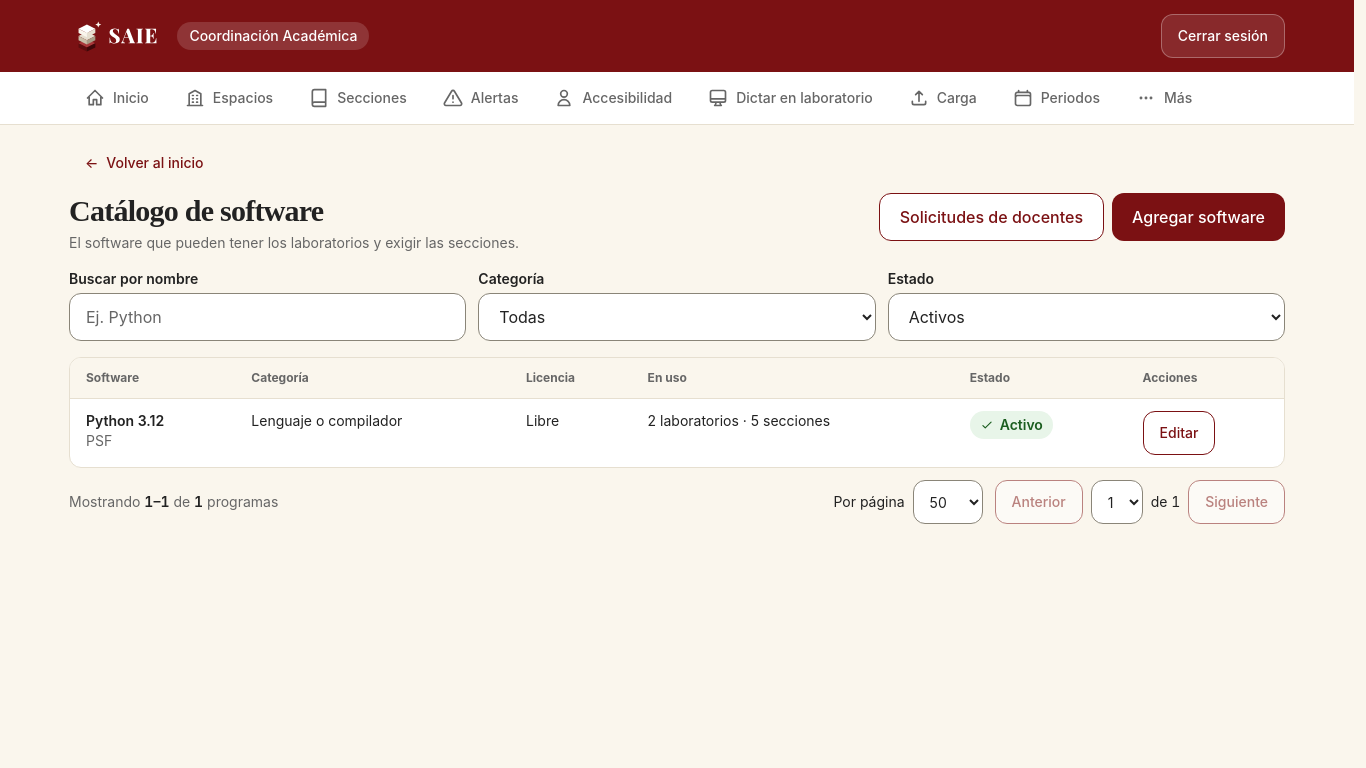
Test: Catálogo de software (Issue 4.30) › en edición la versión no se puede cambiar
The image size is (1366, 768).
Click the button named "Editar Python 3.12".
click(1179, 433)  # box top-left (1143, 411), bottom-right (1215, 455)
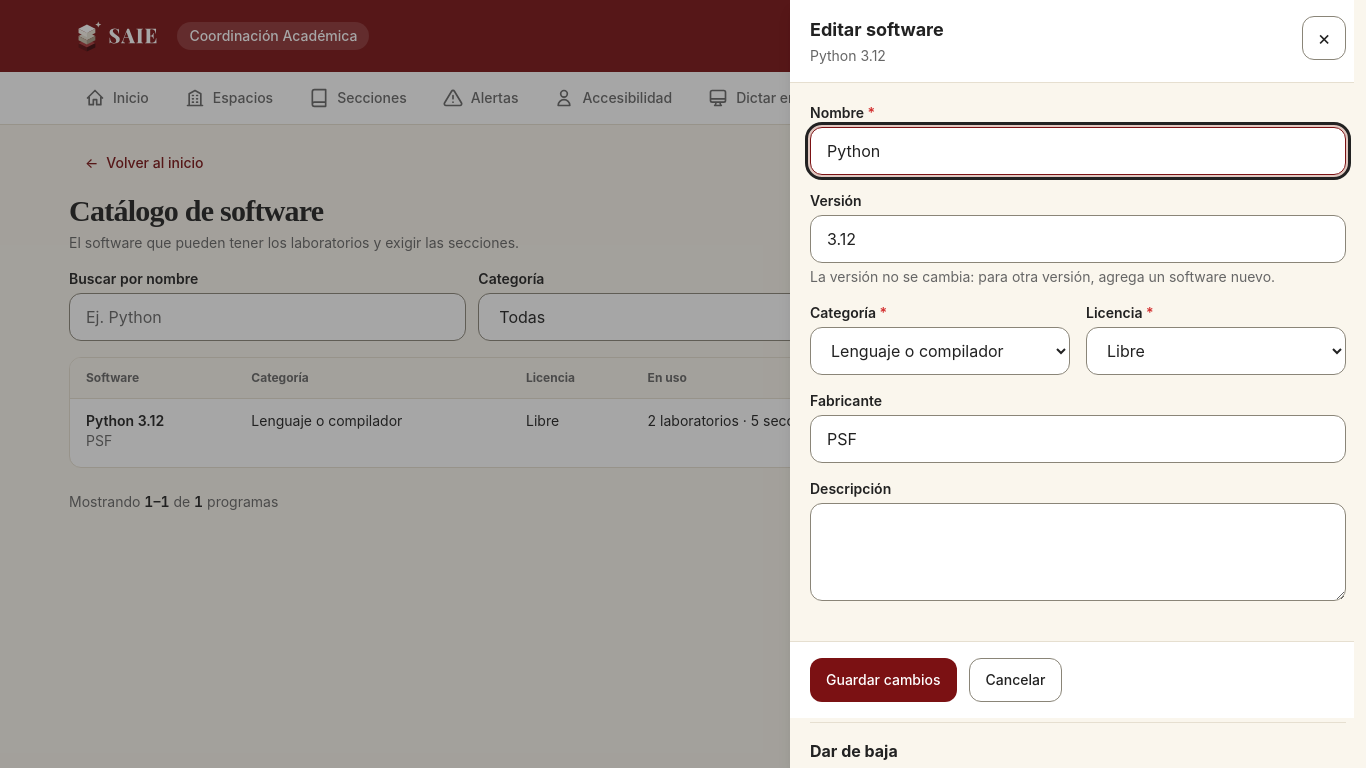
Result: the field labelled "Versión" is disabled at top-left (810, 215), bottom-right (1346, 263)
